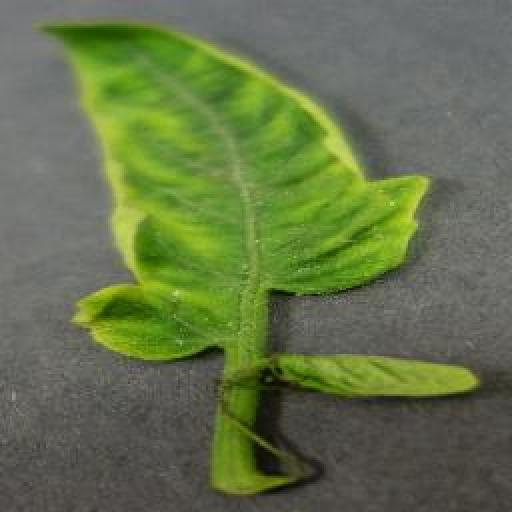disease_tomato: (43, 22, 431, 360), (276, 350, 483, 400)
